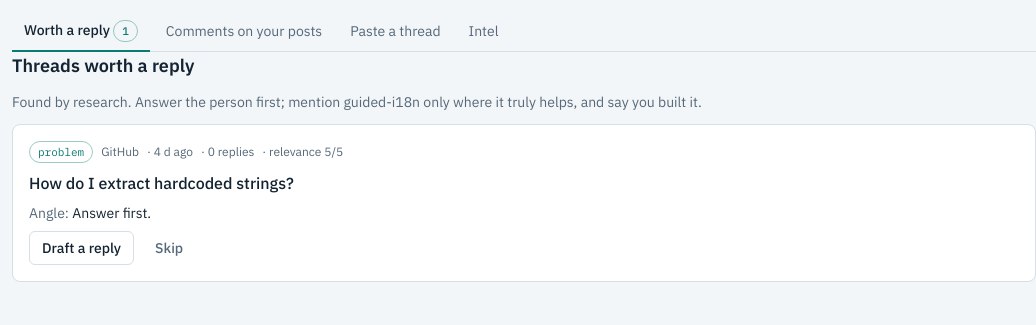
cancel spends nothing
Click the button "Draft a reply": (82,248) [29,231,134,265]
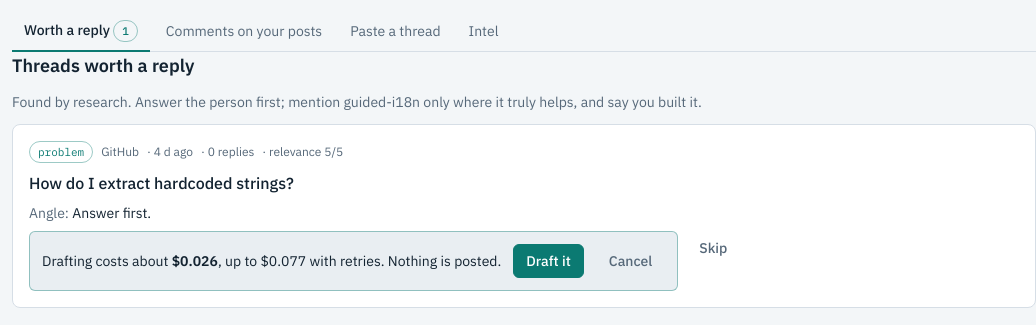
Click the button "Cancel": (631,261) [596,244,665,278]
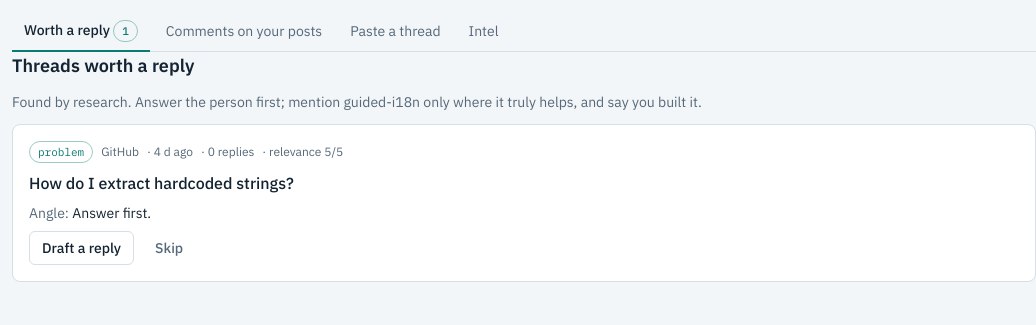
expect the text "Drafting costs" is gone: met
